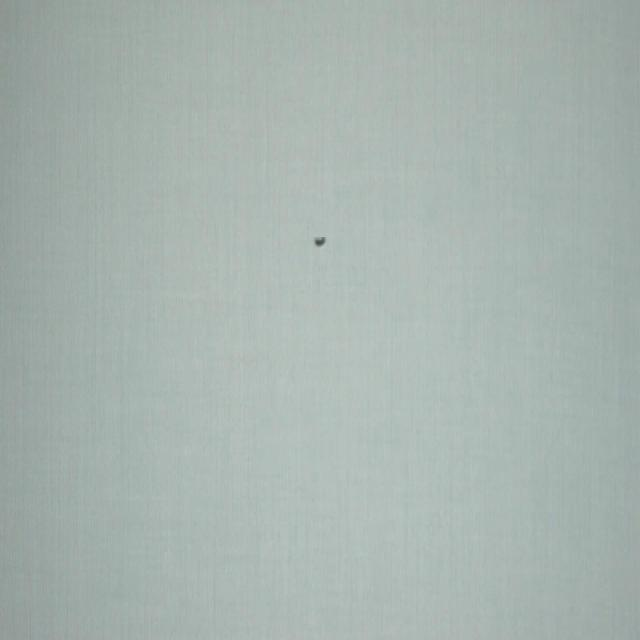dirty: (312, 236, 326, 247)
